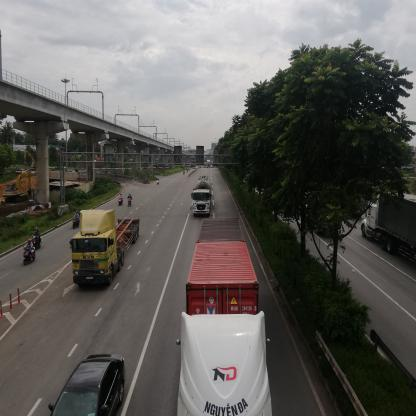container: (185, 218, 271, 416), (73, 212, 141, 293), (361, 190, 416, 267)
motorbike: (22, 240, 38, 272), (33, 228, 46, 250), (73, 210, 80, 228), (119, 195, 125, 207), (129, 196, 134, 208), (157, 178, 161, 188)
truck: (194, 177, 214, 215)
